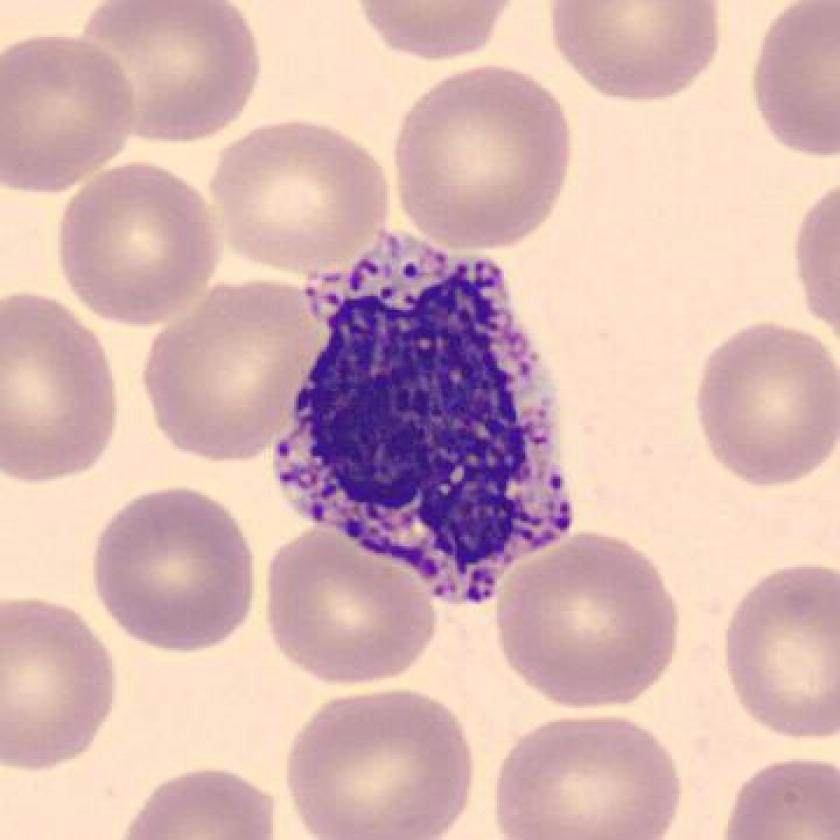basophil: (267, 240, 580, 610)
